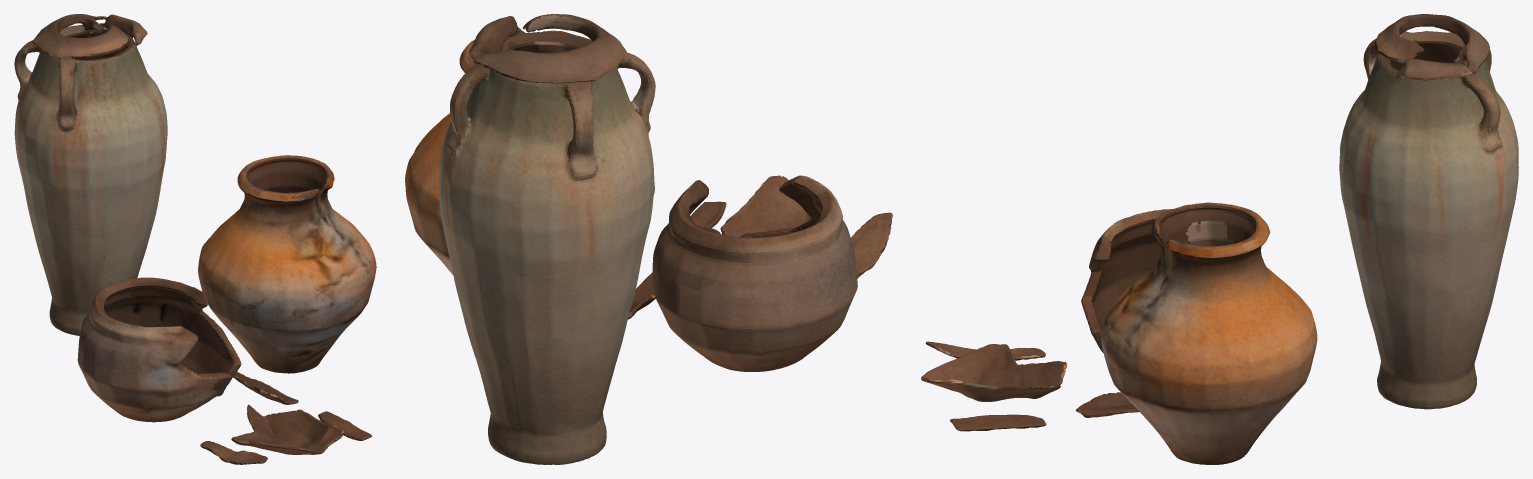
3 views of the same model, side by side, from view 1: azimuth 30°, elevation 25°; view 2: azimuth 150°, elevation 25°; view 3: azimuth 270°, elevation 25° (orthographic). The views are drawn at different scales.
Parts seen in each view (by area): view 1: Hy21_Mesh.obj; view 2: Hy21_Mesh.obj; view 3: Hy21_Mesh.obj.
Part boxes in pixels (left/top/right/bottom): Hy21_Mesh.obj: left=14, top=14, right=376, bottom=464; Hy21_Mesh.obj: left=405, top=14, right=892, bottom=464; Hy21_Mesh.obj: left=921, top=14, right=1518, bottom=464.
Size of the model in its own units: 1.31 by 1.29 by 1.95.
1 material, 1 textured.
